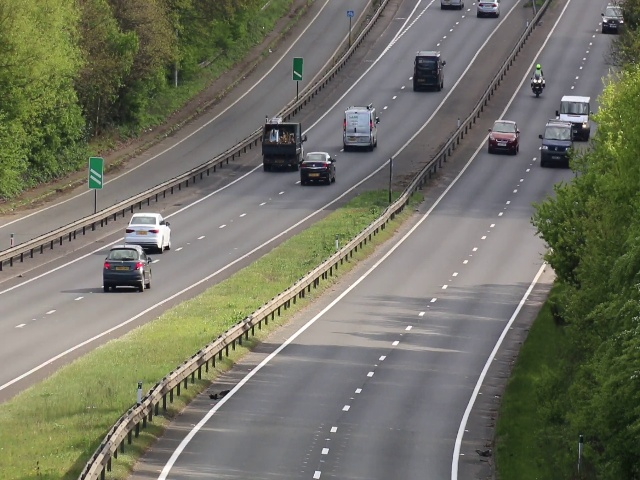car: (258, 121, 304, 174), (102, 247, 150, 293), (123, 208, 171, 252), (341, 106, 377, 153), (410, 50, 446, 96), (558, 94, 591, 141), (542, 122, 573, 170), (298, 151, 336, 186), (487, 118, 519, 156), (603, 8, 619, 33)
